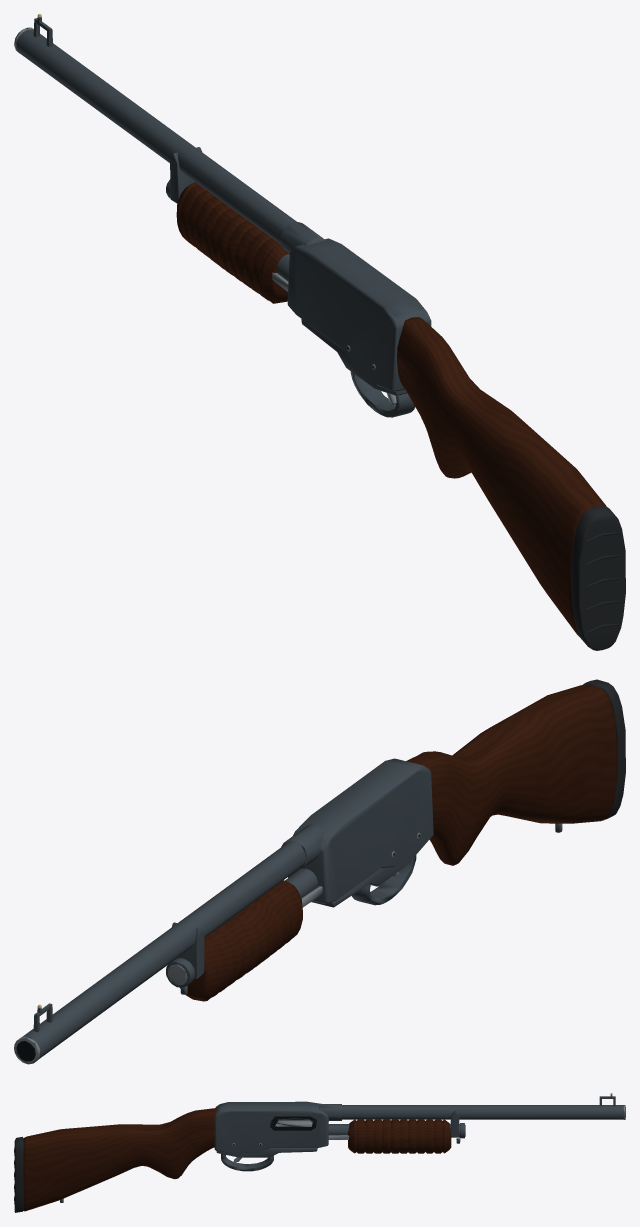
Rendered from linbei_world_lod.glb.
3 views of the same model, one above another, from view 1: azimuth 30°, elevation 25°; view 2: azimuth 150°, elevation 25°; view 3: azimuth 270°, elevation 25° (orthographic). The views are drawn at different scales.
Visible parts, largest first — view 1: Lin_Bei_World_LOD; view 2: Lin_Bei_World_LOD; view 3: Lin_Bei_World_LOD.
Part boxes in pixels (bbox=[...]): Lin_Bei_World_LOD: bbox=[14, 27, 625, 650]; Lin_Bei_World_LOD: bbox=[14, 679, 625, 1064]; Lin_Bei_World_LOD: bbox=[14, 1101, 625, 1212].
Bounding box in the file's own units: 0.057 × 0.2201 × 1.03.
Materials: 6 (1 with a texture image).
